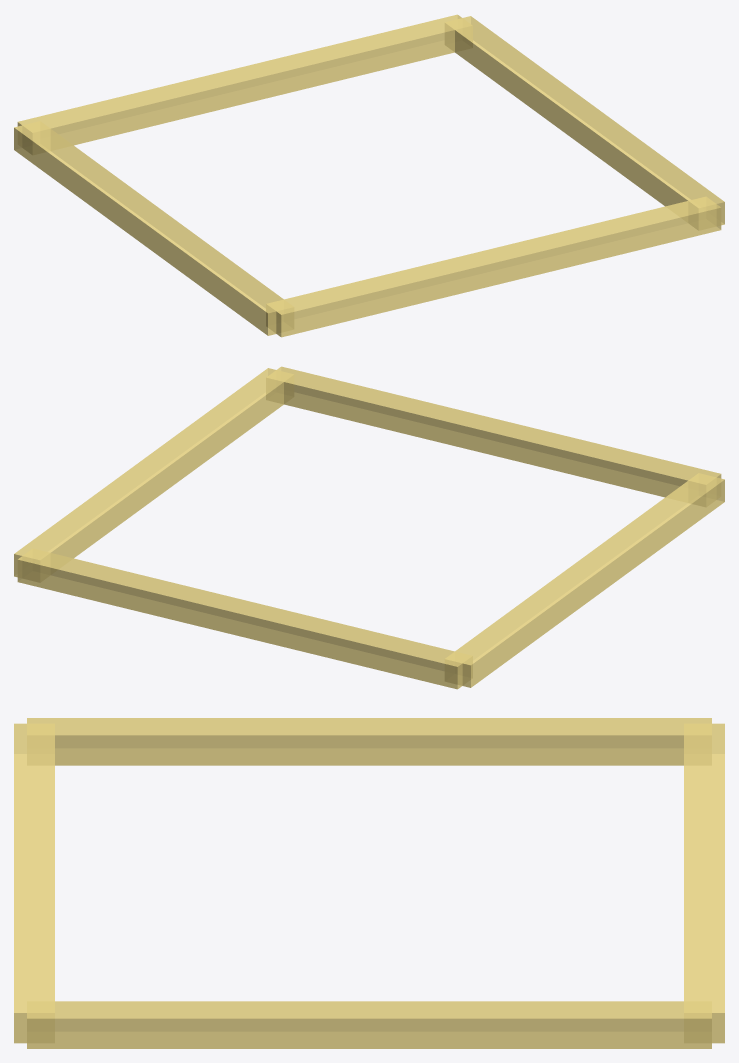
Rendered from tile_selection.glb.
3 views of the same model, one above another, from view 1: azimuth 30°, elevation 25°; view 2: azimuth 150°, elevation 25°; view 3: azimuth 270°, elevation 25° (orthographic). The views are drawn at different scales.
Bounding box in the file's own units: 0.955 × 0.045 × 0.955.
